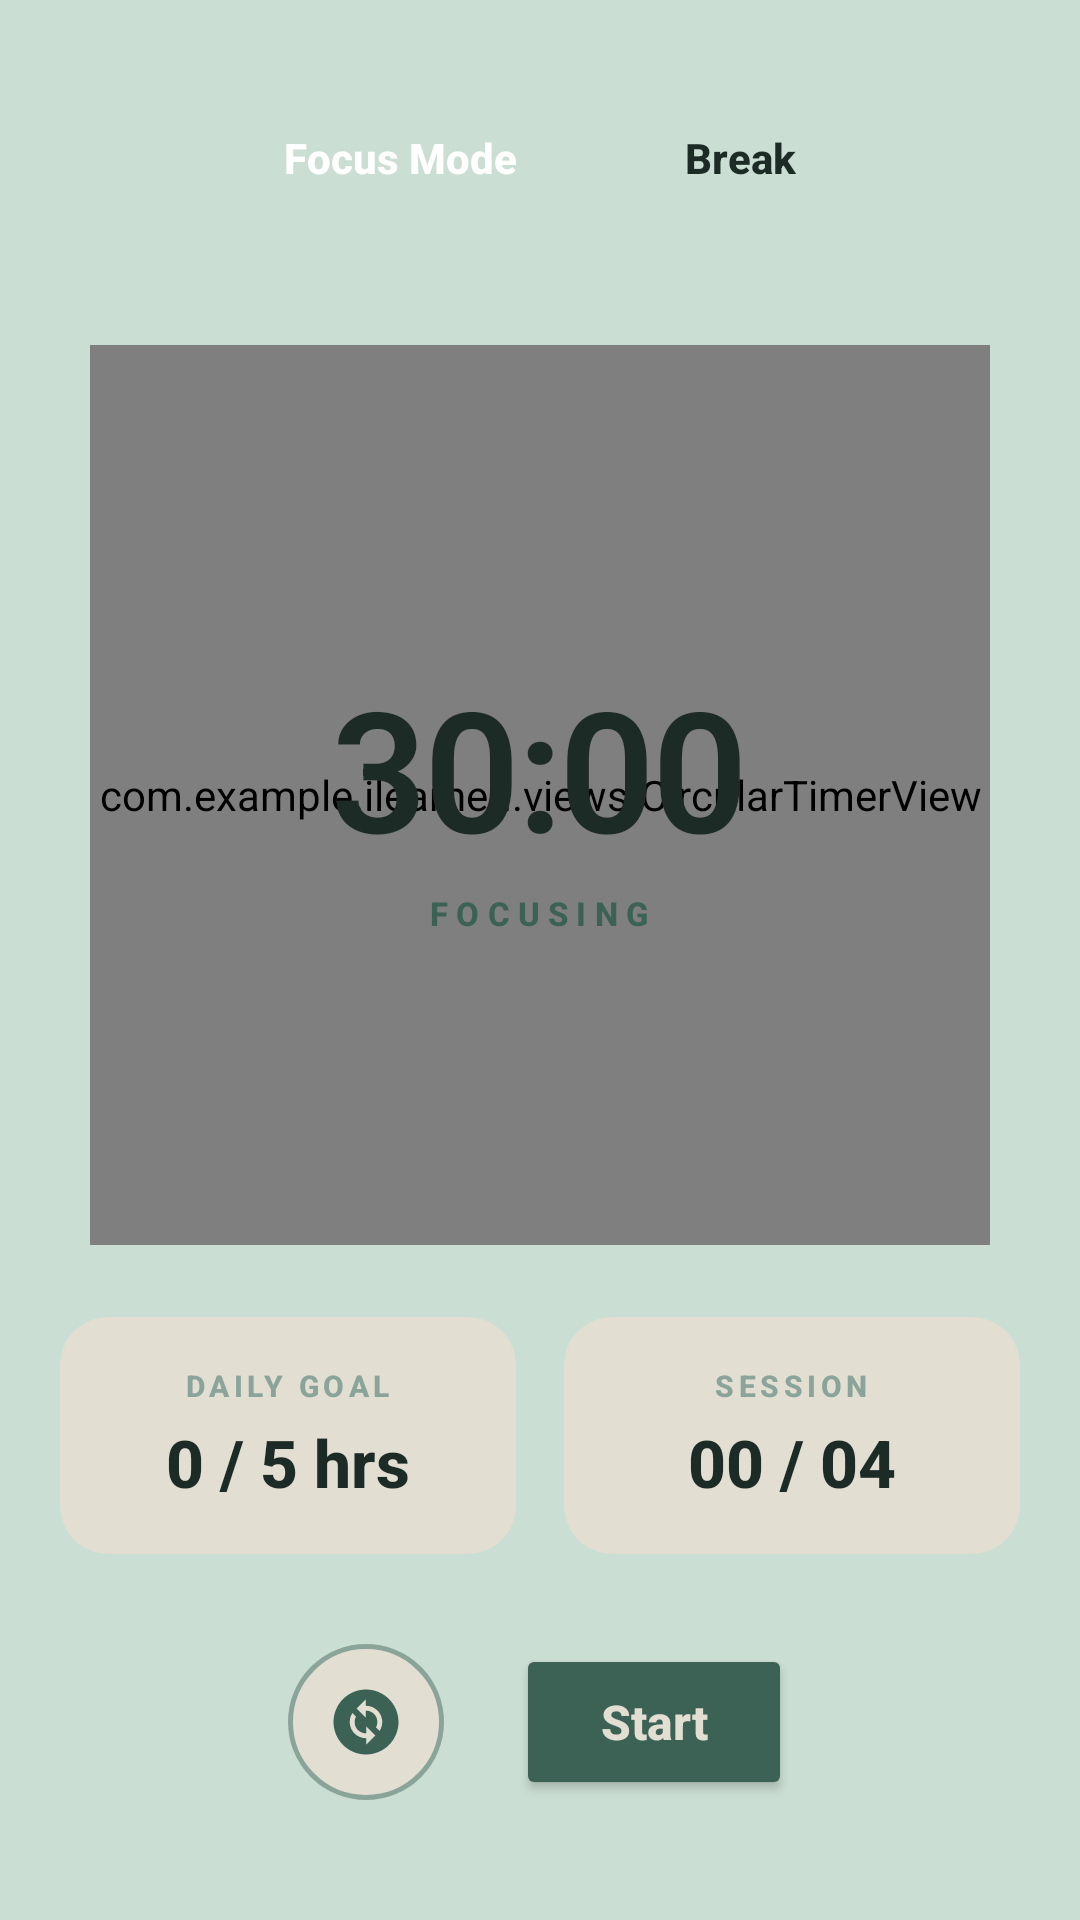

Icon click points for this 1080px×1920px phone screenshot, format (x=x, y=y):
reset circle: (x=366, y=1722)
